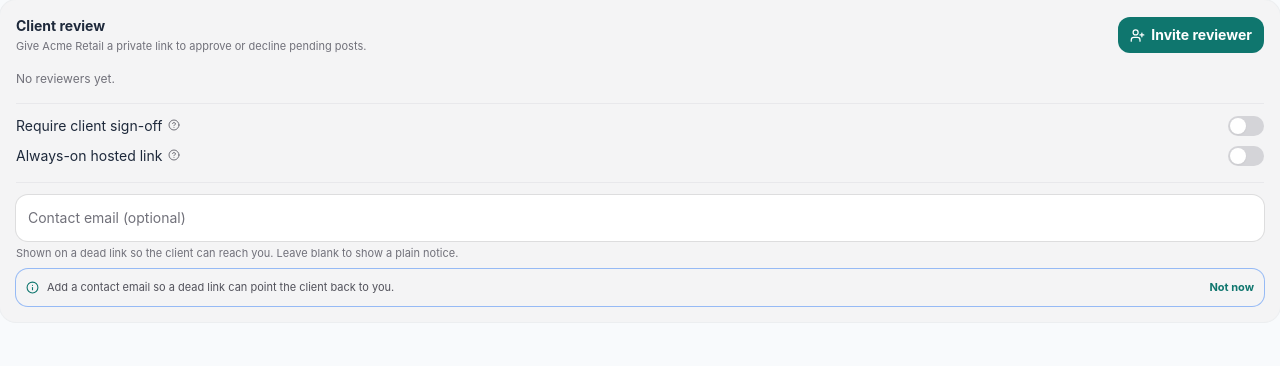
Test case: ReviewSection (V4) › turning on the hosted toggle refuses honestly and stays off (O6 fail-closed)
Step 1. Click the switch named "Always-on hosted link" → (1246, 156), box [1228, 146, 1264, 166]
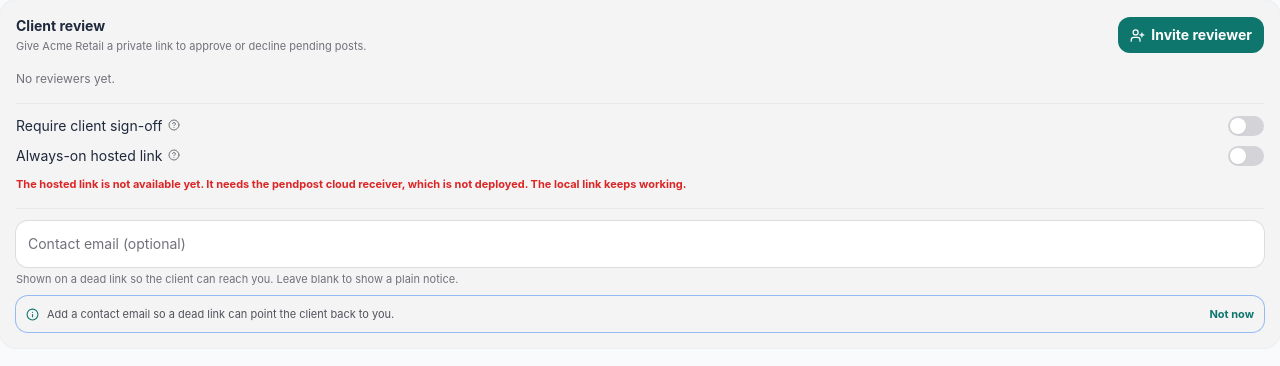
Expected: the text "hosted link is not available yet" is shown, [16, 176, 686, 190]
